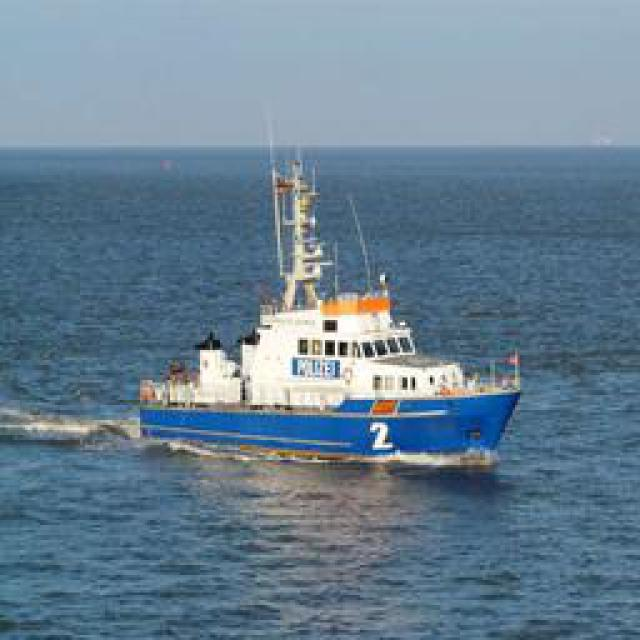Ship: (138, 161, 526, 474)
